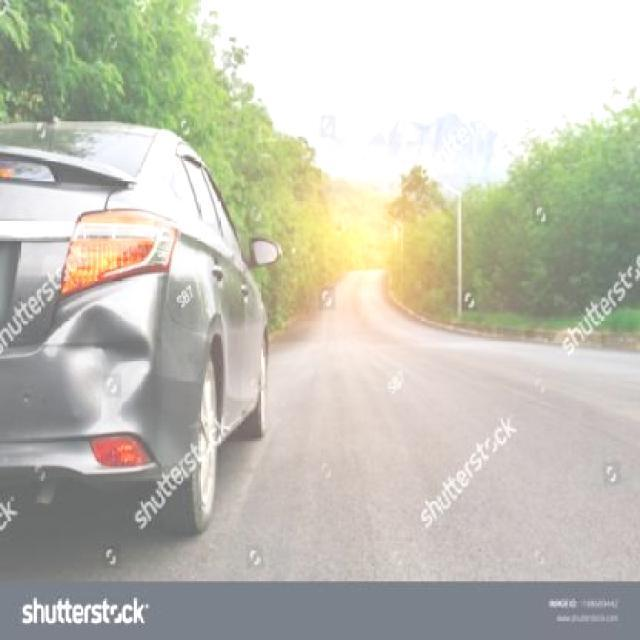minor: (49, 309, 157, 440)
